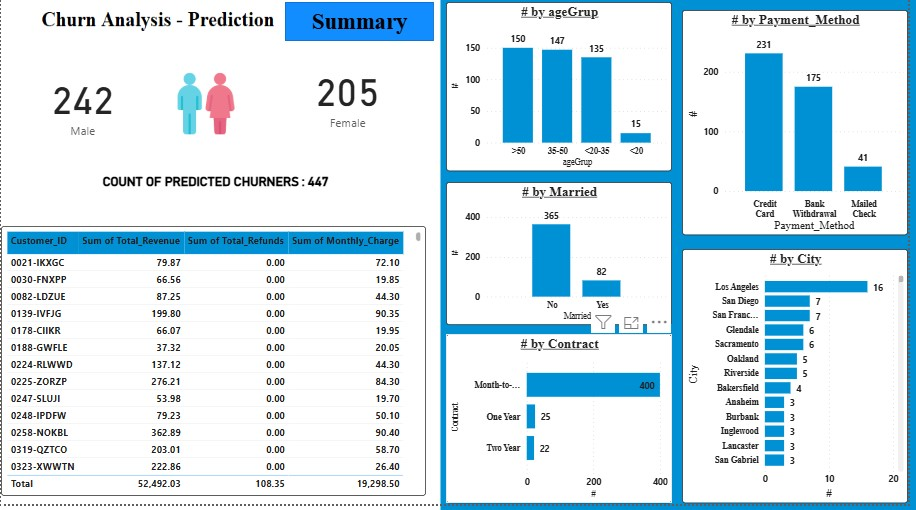

The page's visual inventory and layout, read from the dashboard file:
{"tool":"powerbi","page":{"name":"Churn_prediction","canvas":[1280,720],"ordinal":2},"visuals":[{"type":"tableEx","fields":{"Values":["telco_result.Customer_ID","Sum(telco_result.Total_Revenue)","Sum(telco_result.Total_Refunds)","Sum(telco_result.Monthly_Charge)"]},"box":[0,327.5,600,381.2],"z":0},{"type":"card","fields":{"Values":["tbl_measure.Title_Predicted_Churners"]},"box":[15.5,220.2,574.6,90.4],"z":1000},{"type":"card","fields":{"Values":["tbl_measure.Count_predicted_churn"]},"box":[389.6,77.6,200.5,131.3],"z":2000},{"type":"card","fields":{"Values":["tbl_measure.Count_predicted_churn"]},"box":[15.5,88.9,200.5,131.3],"z":3000},{"type":"clusteredColumnChart","fields":{"Category":["mapping_agegroup.ageGrup"],"Y":["CountNonNull(telco_result.Customer_ID)"]},"box":[628.2,11.3,319.1,238.6],"z":4000},{"type":"clusteredColumnChart","fields":{"Y":["CountNonNull(telco_result.Customer_ID)"],"Category":["telco_result.Married"]},"box":[628.2,265.4,319.1,201.9],"z":5000},{"type":"clusteredColumnChart","fields":{"Y":["CountNonNull(telco_result.Customer_ID)"],"Category":["telco_result.Payment_Method"]},"box":[961.4,22.6,319.1,317.6],"z":6000},{"type":"barChart","fields":{"Category":["telco_result.Contract"],"Y":["CountNonNull(telco_result.Customer_ID)"]},"box":[628.2,480,319.1,238.6],"z":7000},{"type":"barChart","fields":{"Category":["telco.City"],"Y":["CountNonNull(telco_result.Customer_ID)"]},"box":[961.4,360,319.1,358.6],"z":8000},{"type":"image","box":[216,100.2,146.8,108.7],"z":9000},{"type":"shape","title":"Summary","box":[400.9,11.3,210.4,55.1],"z":10000}]}

Visuals, with their boxes in screenshot pixels (x1, y1, x2, y2), scaled from the page's 1280x720 canvas onto the 916x510 screenshot:
tableEx - telco_result.Customer_ID x Sum(telco_result.Total_Revenue): 0 232 429 502
card - tbl_measure.Title_Predicted_Churners: 11 156 422 220
card - tbl_measure.Count_predicted_churn: 279 55 422 148
card - tbl_measure.Count_predicted_churn: 11 63 155 156
clusteredColumnChart - mapping_agegroup.ageGrup x CountNonNull(telco_result.Customer_ID): 450 8 678 177
clusteredColumnChart - CountNonNull(telco_result.Customer_ID) x telco_result.Married: 450 188 678 331
clusteredColumnChart - CountNonNull(telco_result.Customer_ID) x telco_result.Payment_Method: 688 16 915 241
barChart - telco_result.Contract x CountNonNull(telco_result.Customer_ID): 450 340 678 509
barChart - telco.City x CountNonNull(telco_result.Customer_ID): 688 255 915 509
image: 155 71 260 148
"Summary" shape: 287 8 437 47
